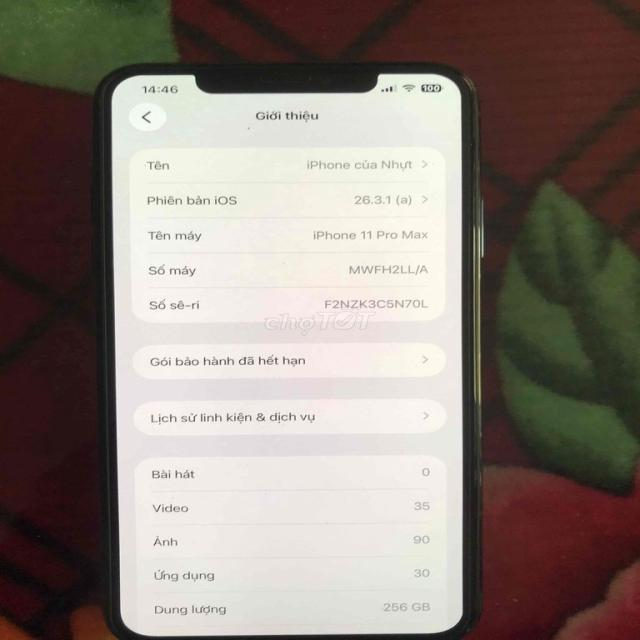scratch: (460, 137, 482, 161)
